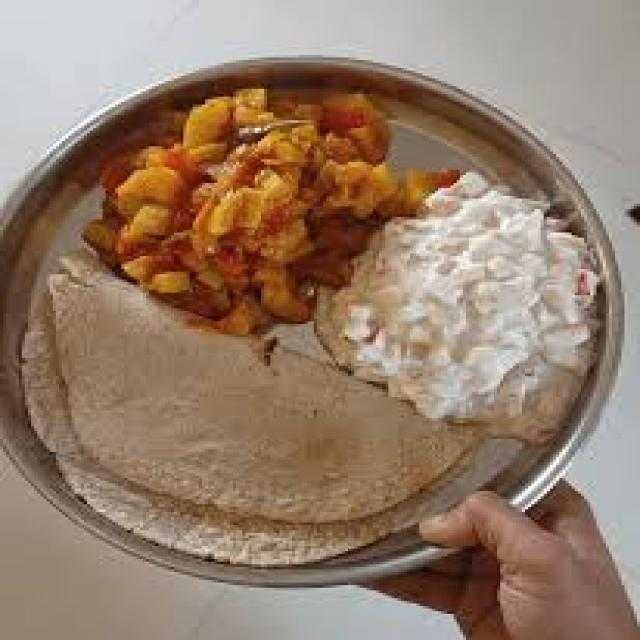ROTI: (19, 243, 460, 554)
